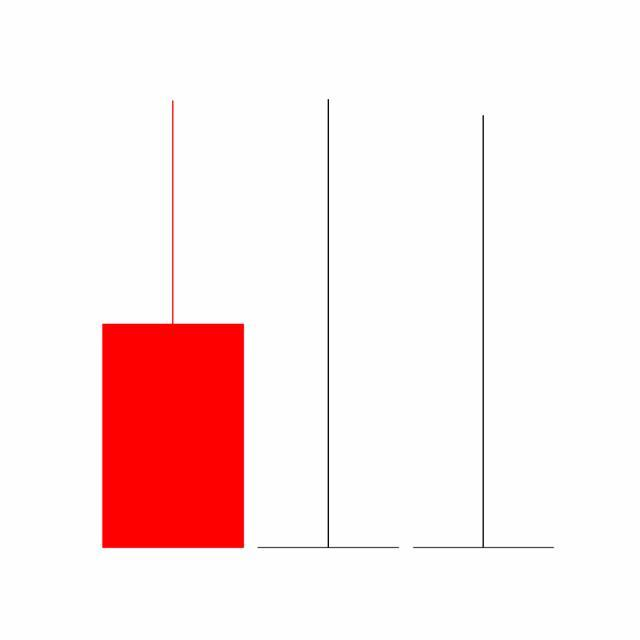Gravestone Doji: (406, 111, 562, 553)
